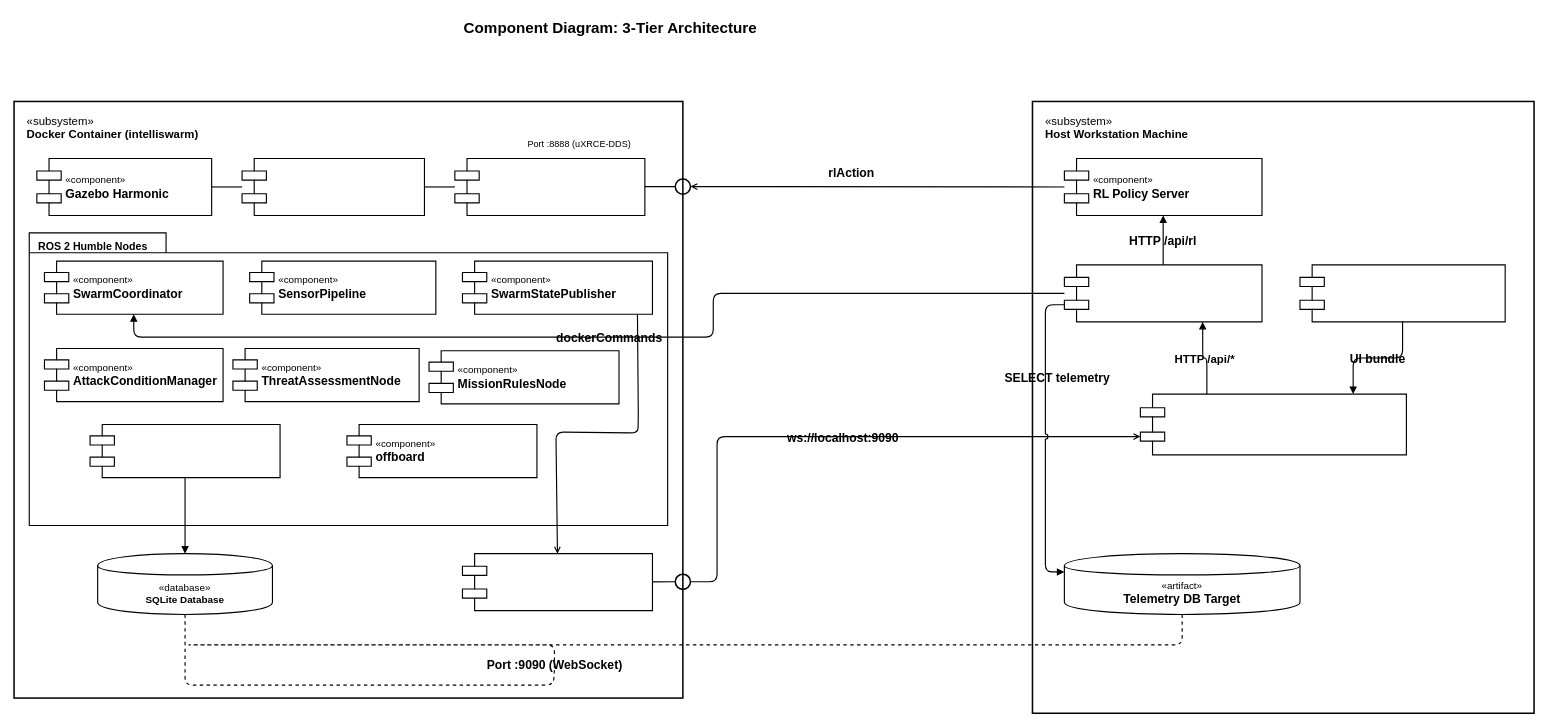
Some shapes in this 1547 by 727 pixel diagram are drawn without their labels. Each missing label, with the centre of its shape:
"«component» Backend API Gateway" goes at (x=1162, y=293).
"«component» Frontend Server" goes at (x=1402, y=293).
"«component» GCS Web Dashboard" goes at (x=1273, y=424).
"«component» Micro XRCE-DDS" goes at (x=549, y=187).
"«component» PX4 SITL (x4)" goes at (x=333, y=187).
"«component» rosbridge server" goes at (x=557, y=582).
"«component» TelemetryLoggerNode" goes at (x=184, y=451).
